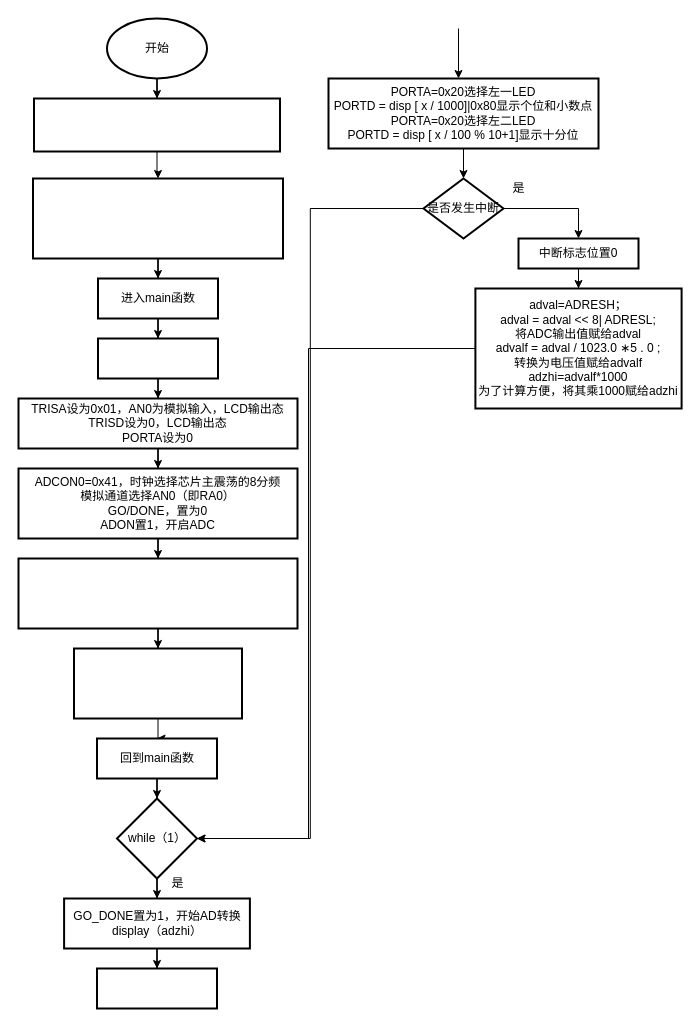
This 700x1026 diagram has some shape labels left out. The shapes that lost their labels are listed below. From the top down, each one's centre as x and y in pixels, then its label:
At point 156,124: "声明全局变量disp数组，用于LCD显示 声明全局变量adzhi，记录ADC所得值".
At point 158,218: "声明函数delayms，进行延时 声明函数display，用于显示电压 声明函数init，用于初始化 声明中断处理函数ADC，用于处理ADC中断".
At point 157,358: "调用init函数".
At point 157,593: "ADCON1=0x80 ADFM置1，数据右对齐 VCFG1置0，参考电压负为VSS VCFG0置0，参考电压正为VDD".
At point 157,683: "GIE置1，打开全局中断 PEIE置1，打开外设中断 ADIE置1，打开ADC中断 ADIF置0，关中断标志".
At point 157,988: "进入display函数".
